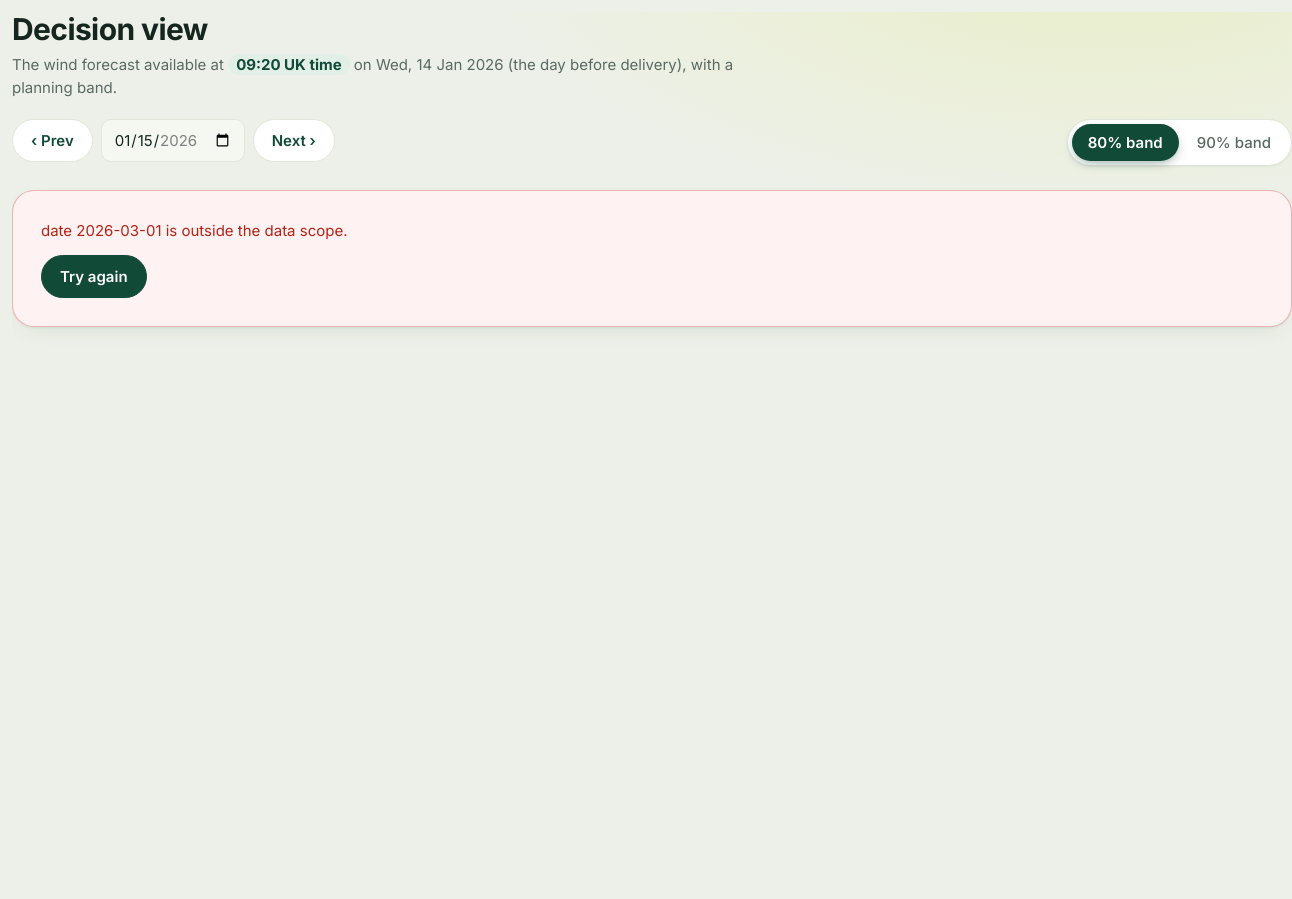
Test: errors and missing data › shows the API error and retries on request
The image size is (1292, 899).
Expected: the text "date 2026-03-01 is outside the data scope." is shown, [41, 221, 348, 240]
Click the button "Try again": (94, 276) [41, 254, 147, 298]
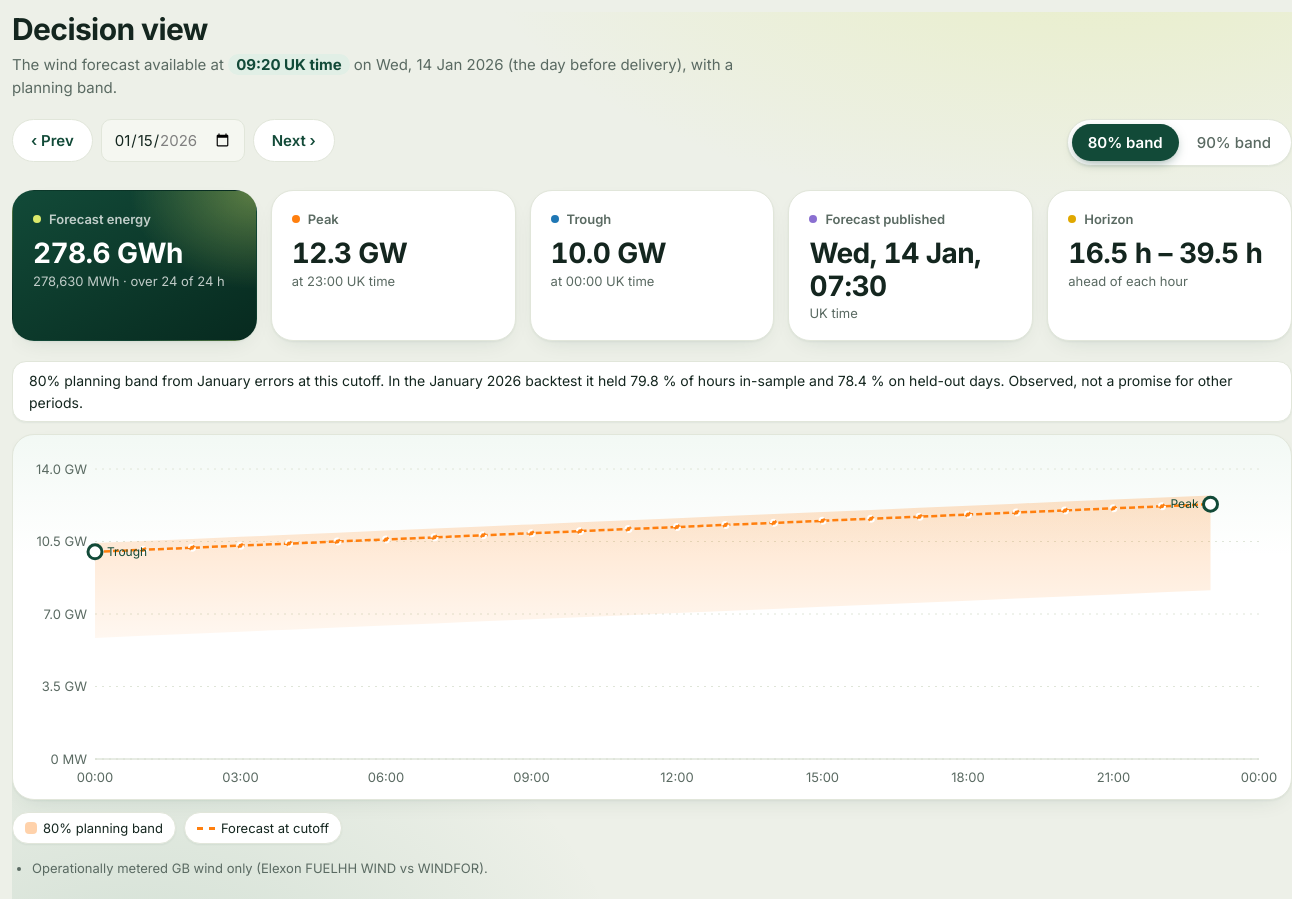
Expected: the text "278.6 GWh" is shown, [33, 236, 183, 270]
